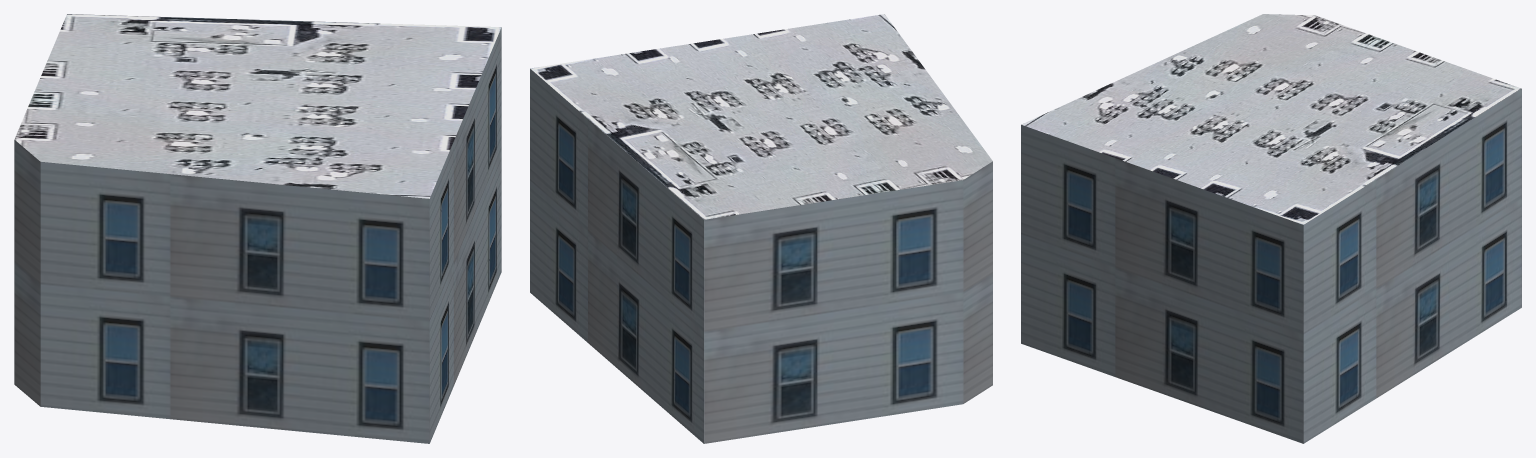
File: ResTex__3561.fbx
3 renders of one model, left to right at view 1: azimuth 30°, elevation 25°; view 2: azimuth 150°, elevation 25°; view 3: azimuth 270°, elevation 25°, orthographic. The views are drawn at different scales.
Parts seen in each view (by area): view 1: CityEngineMaterial_18_m, CityEngineMaterial_2_m; view 2: CityEngineMaterial_18_m, CityEngineMaterial_2_m; view 3: CityEngineMaterial_18_m, CityEngineMaterial_2_m.
Part boxes in pixels (x1,y1,x2,y2): CityEngineMaterial_18_m: (14,27,501,443); CityEngineMaterial_2_m: (14,14,501,198); CityEngineMaterial_18_m: (530,69,992,443); CityEngineMaterial_2_m: (530,14,992,219); CityEngineMaterial_18_m: (1021,89,1521,443); CityEngineMaterial_2_m: (1021,14,1521,224).
Bounding box in the file's own units: 12.39 × 6 × 12.43.
Materials: 2 (2 with a texture image).
